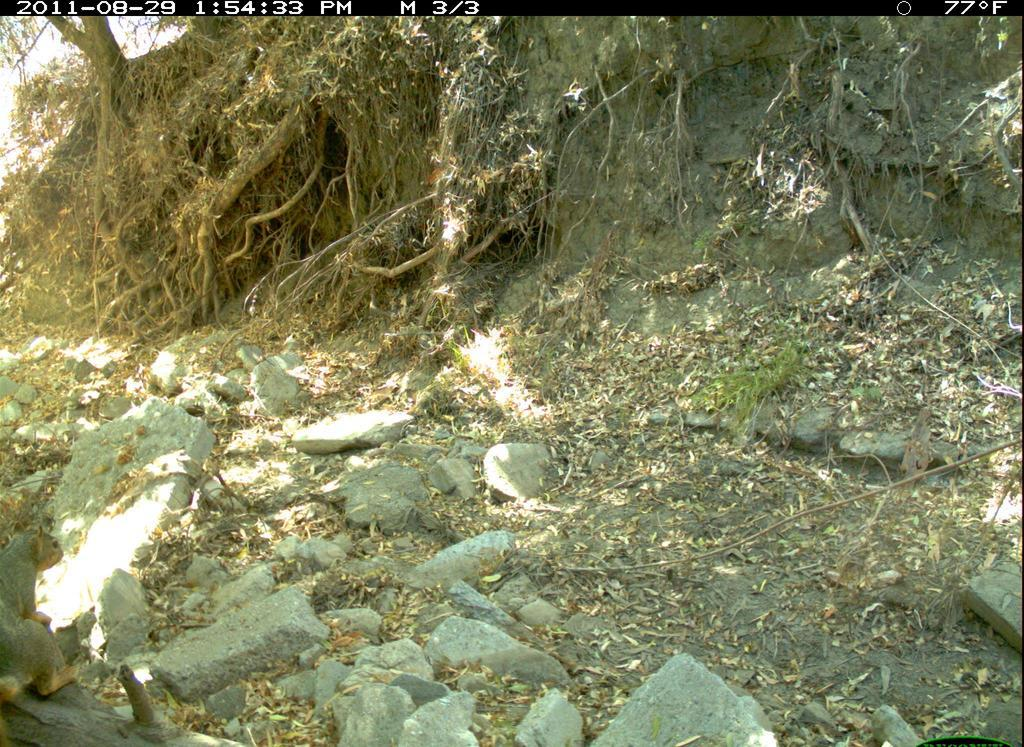squirrel: (1, 516, 88, 713)
